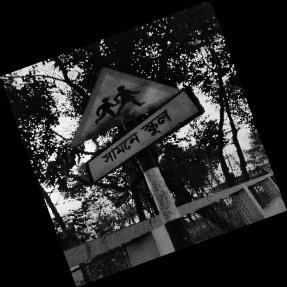School-in-front: (74, 69, 203, 183)
